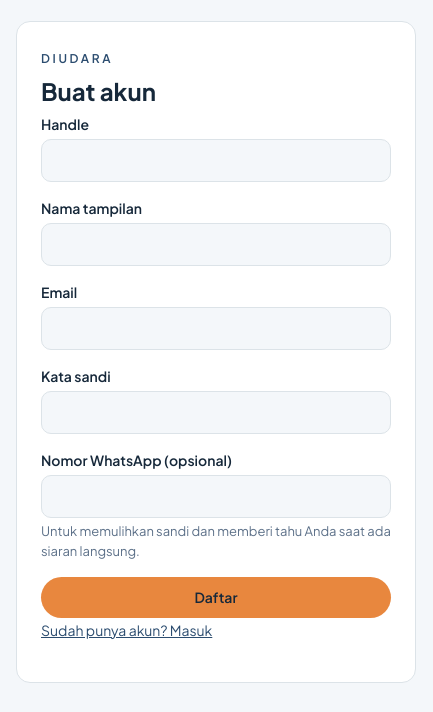
Test: SignupPage › shows a duplicate-handle 409 inline, without leaving the form
Step 1. Type "wildan" into the field labelled "Handle" → (216, 160), box [41,139,391,182]
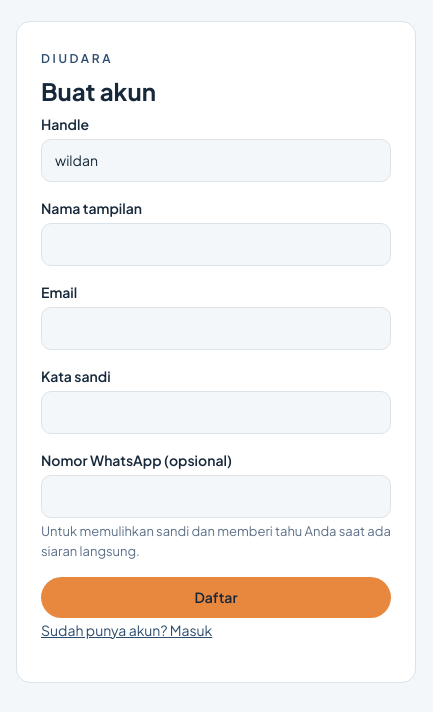
Step 2. Type "Wildan" into the field labelled "Nama tampilan" → (216, 244), box [41,223,391,266]
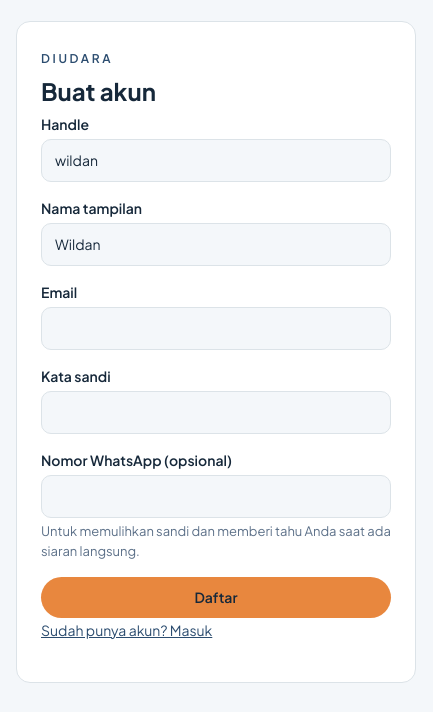
Step 3. Type "wildan@example.com" into the field labelled "Email" → (216, 328), box [41,307,391,350]
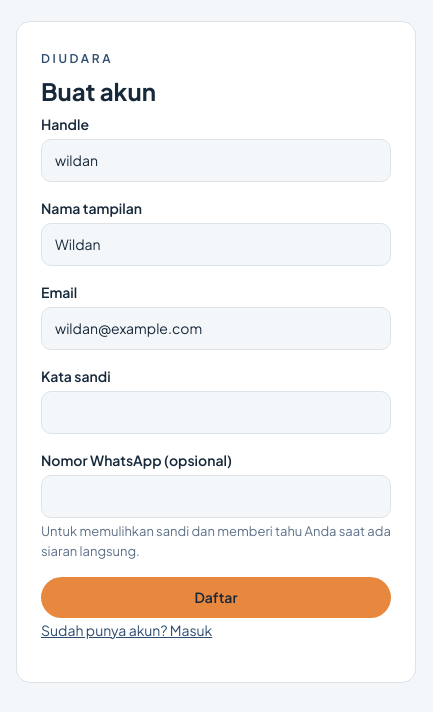
Step 4. Type "supersecret123" into the password field labelled "Kata sandi" → (216, 412), box [41,391,391,434]
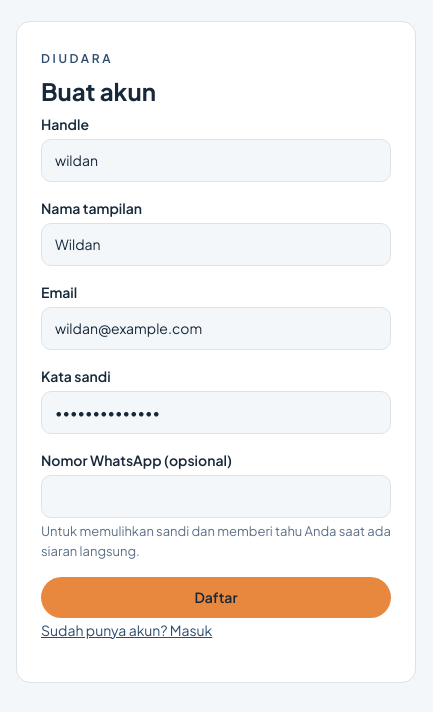
Step 5. Click the button "Daftar" → (216, 598), box [41,577,391,618]
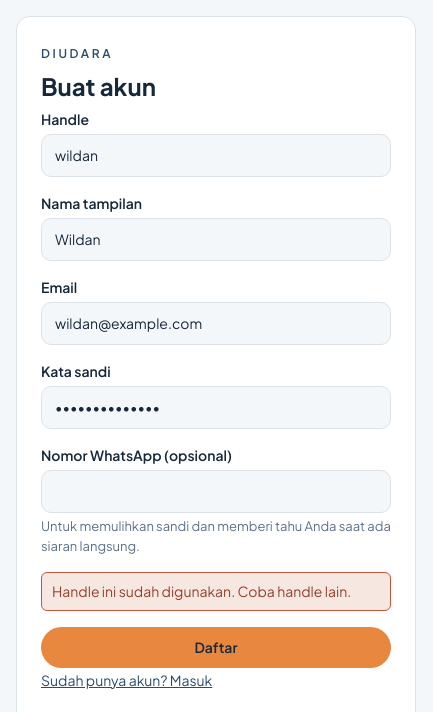
Check: the text "Handle ini sudah digunakan. Coba handle lain." is shown, box [41,572,391,611]
